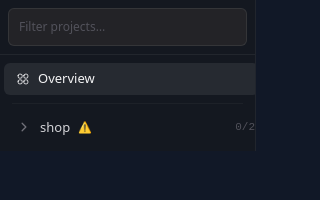
ProjectTree › filters projects by search query
The width and height of the screenshot is (320, 200).
In the search field labelled "Filter projects": (128, 27) [8,8,247,46], type "backend"
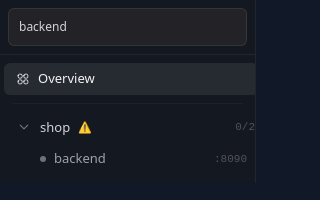
Check: the text "backend" is shown, box [54,149,106,168]
